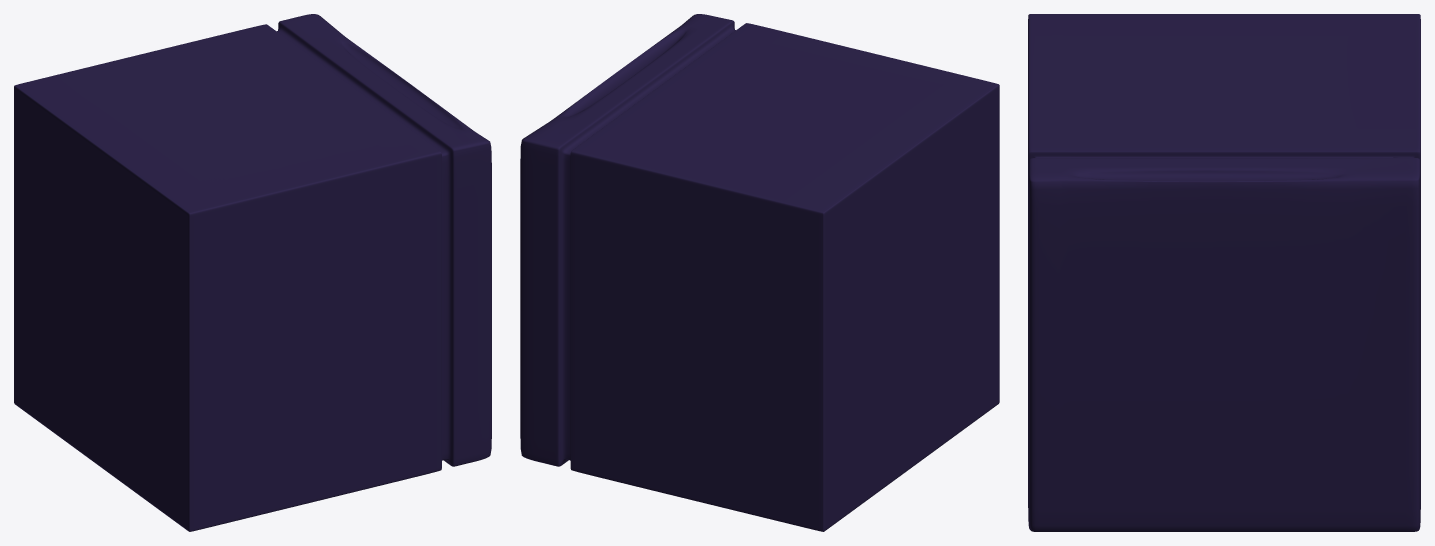
Rendered from fridge.fbx.
3 views of the same model, side by side, from view 1: azimuth 30°, elevation 25°; view 2: azimuth 150°, elevation 25°; view 3: azimuth 270°, elevation 25° (orthographic). The views are drawn at different scales.
Parts seen in each view (by area): view 1: fridge; view 2: fridge; view 3: fridge.
Part boxes in pixels (x1,y1,x2,y2): fridge: [14, 14, 491, 531]; fridge: [520, 14, 999, 531]; fridge: [1028, 14, 1420, 531].
Bounding box in the file's own units: 8.87 × 8.87 × 8.87.
